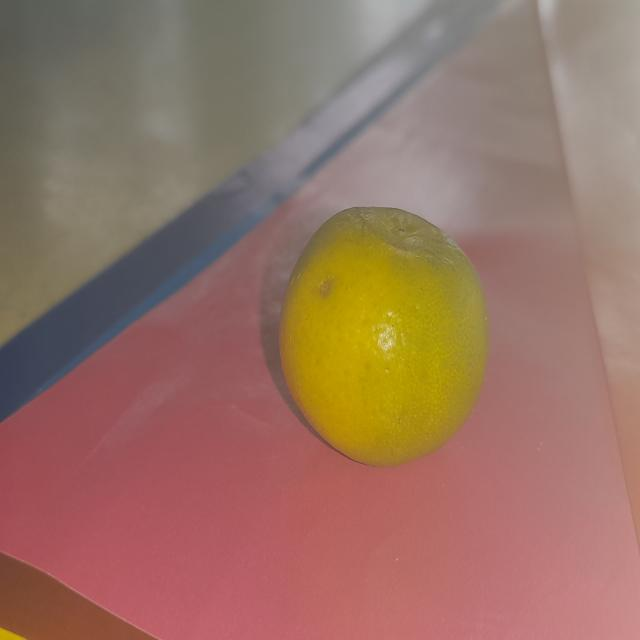greening: (278, 202, 498, 458)
